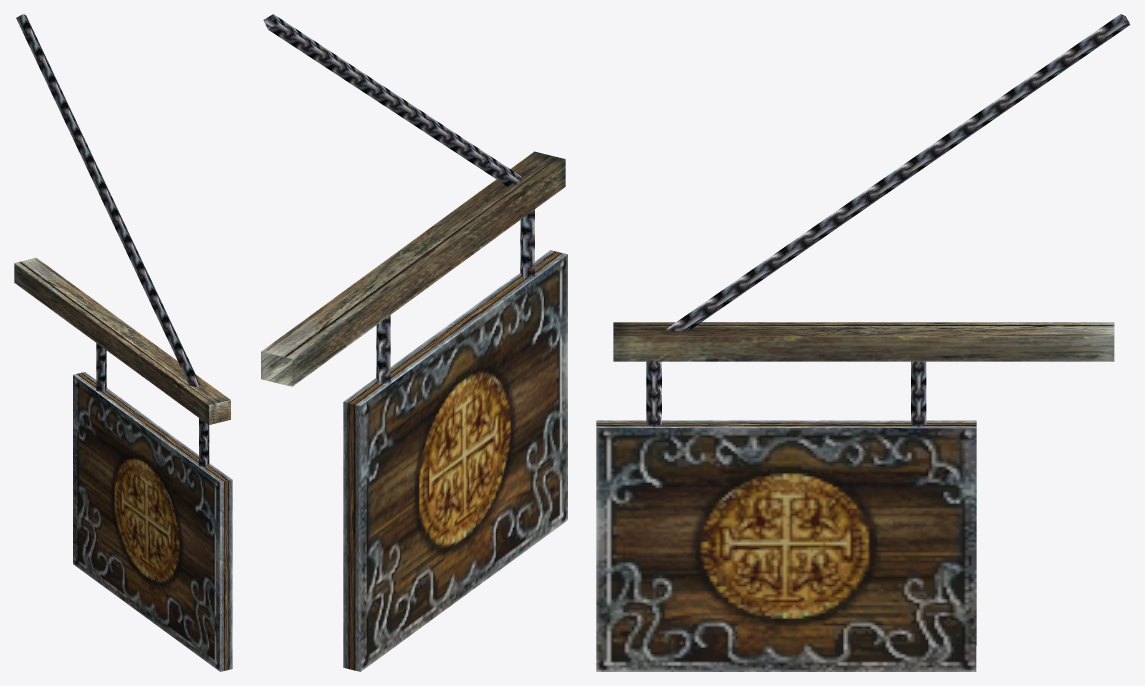
The model's file is tn_banksign.glb.
3 renders of one model, left to right at view 1: azimuth 30°, elevation 25°; view 2: azimuth 150°, elevation 25°; view 3: azimuth 270°, elevation 25°, orthographic. The views are drawn at different scales.
Visible parts, largest first — view 1: tn_banksign; view 2: tn_banksign; view 3: tn_banksign.
Part boxes in pixels (x1=…): tn_banksign: x1=14, y1=14, x2=232, y2=671; tn_banksign: x1=261, y1=14, x2=567, y2=671; tn_banksign: x1=596, y1=14, x2=1130, y2=671.
Bounding box in the file's own units: 0.133 × 2.91 × 2.15.
Materials: 4 (4 with a texture image).
